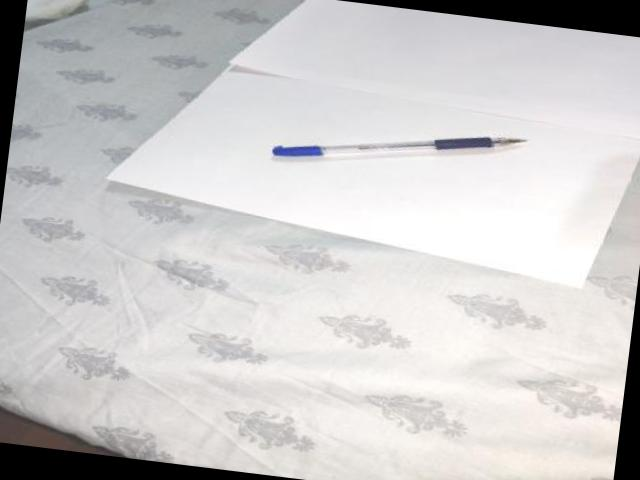PEN: (268, 115, 538, 166)
